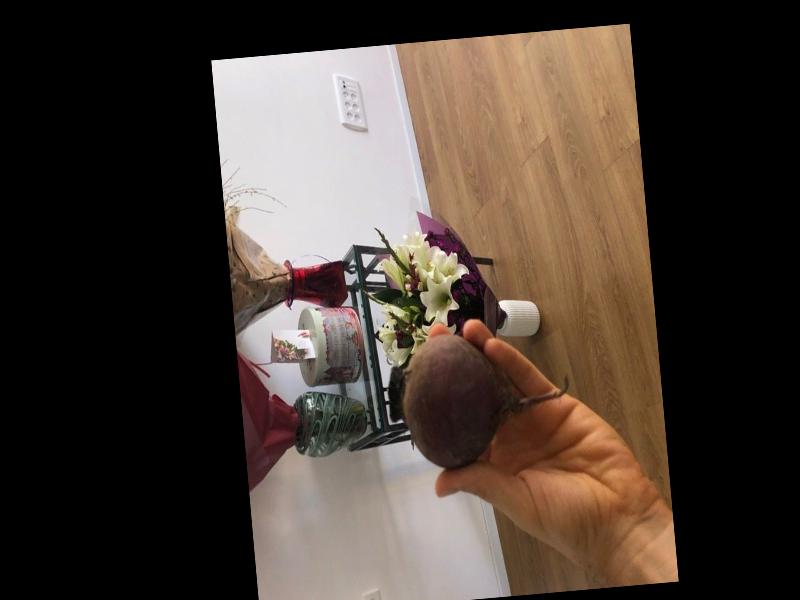Beet: (383, 323, 574, 473)
